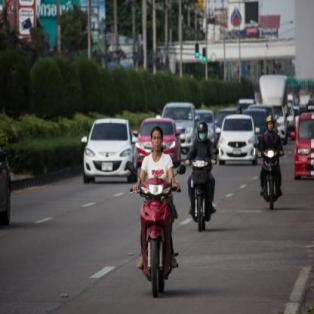Motocicleta: (132, 174, 190, 300), (180, 152, 222, 225), (252, 144, 286, 212)
